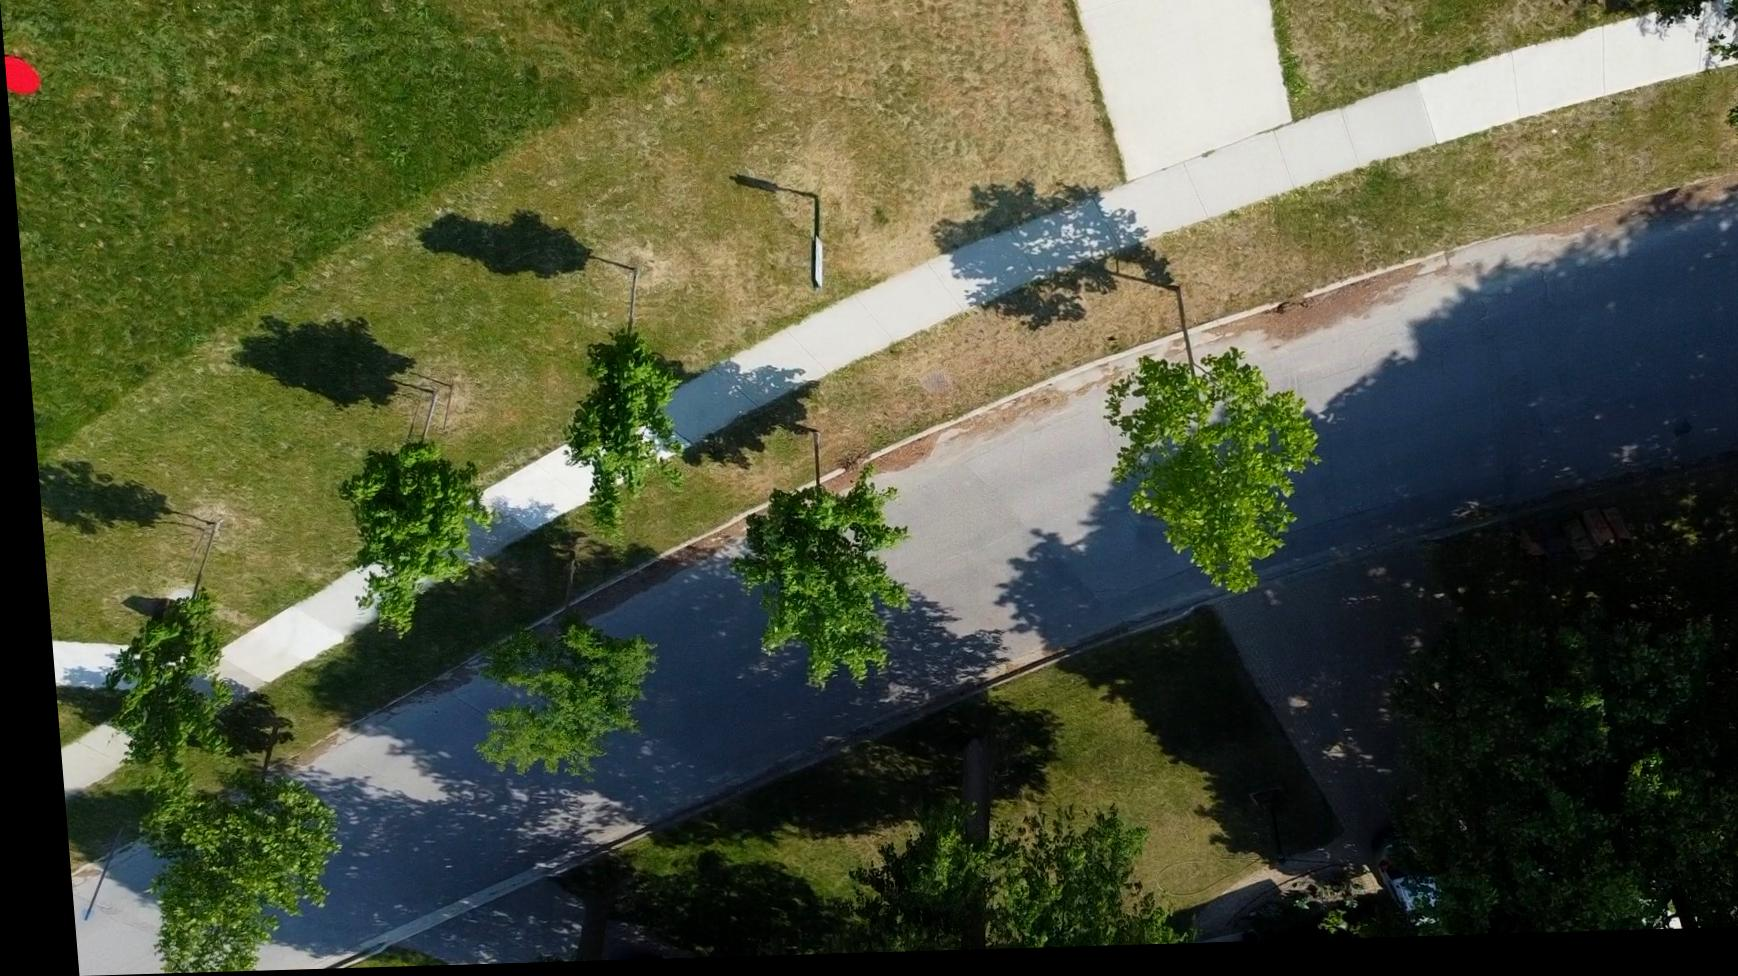Red: (4, 54, 42, 97)
